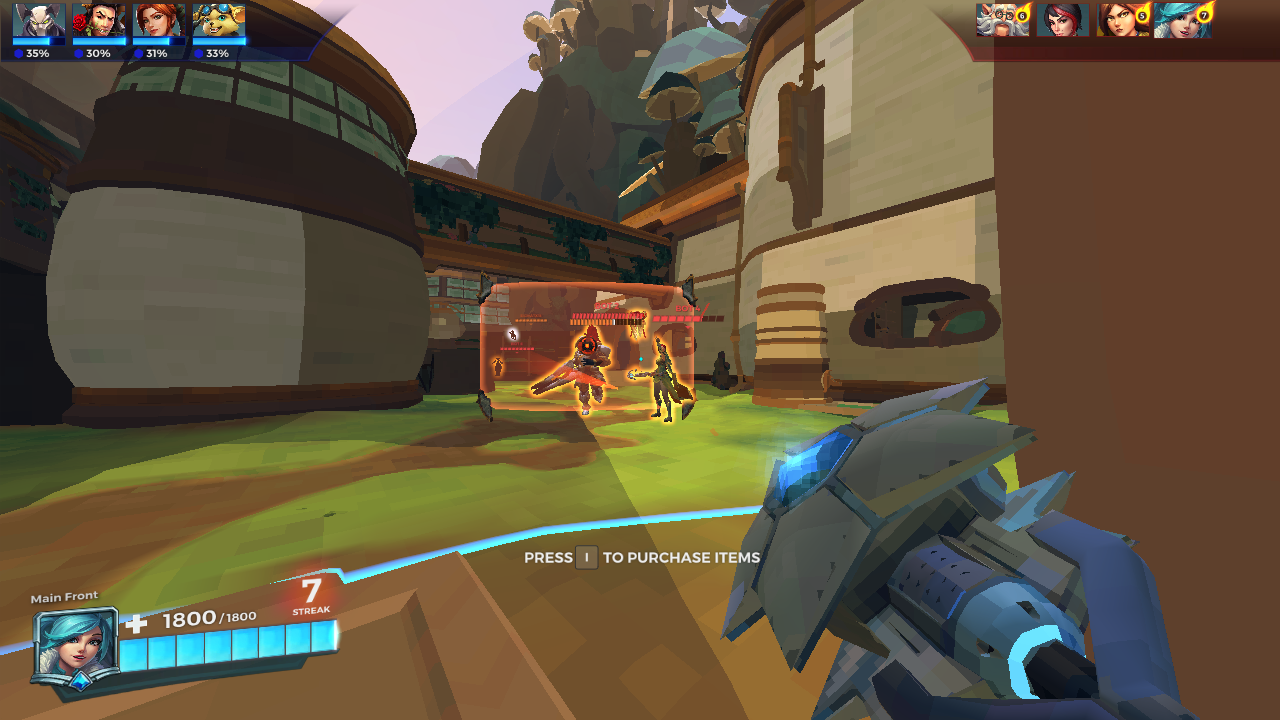model: (536, 321, 622, 427), (645, 335, 686, 430), (488, 352, 511, 385)
